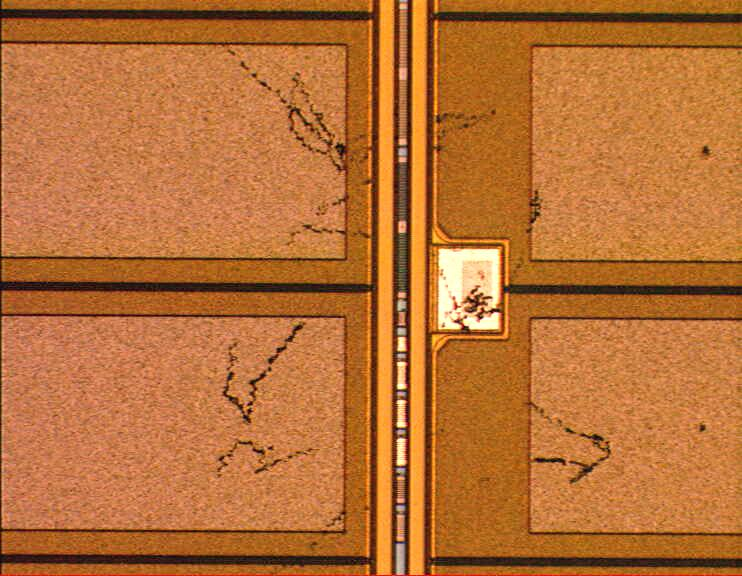SCRATCH: (211, 39, 622, 576)
